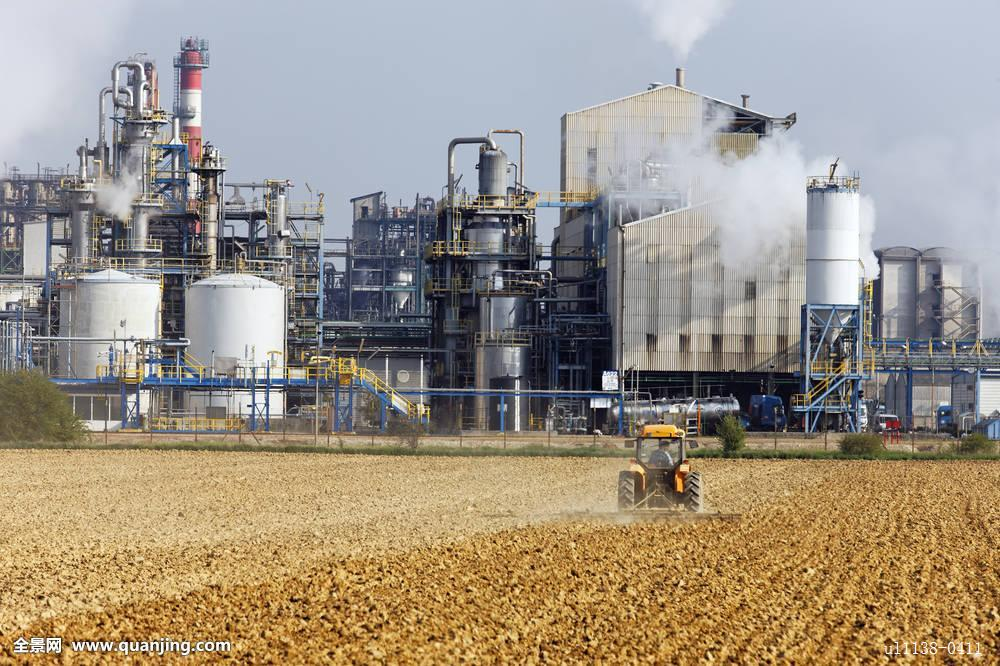dust: (728, 115, 886, 288), (622, 2, 750, 74), (80, 134, 159, 232)
